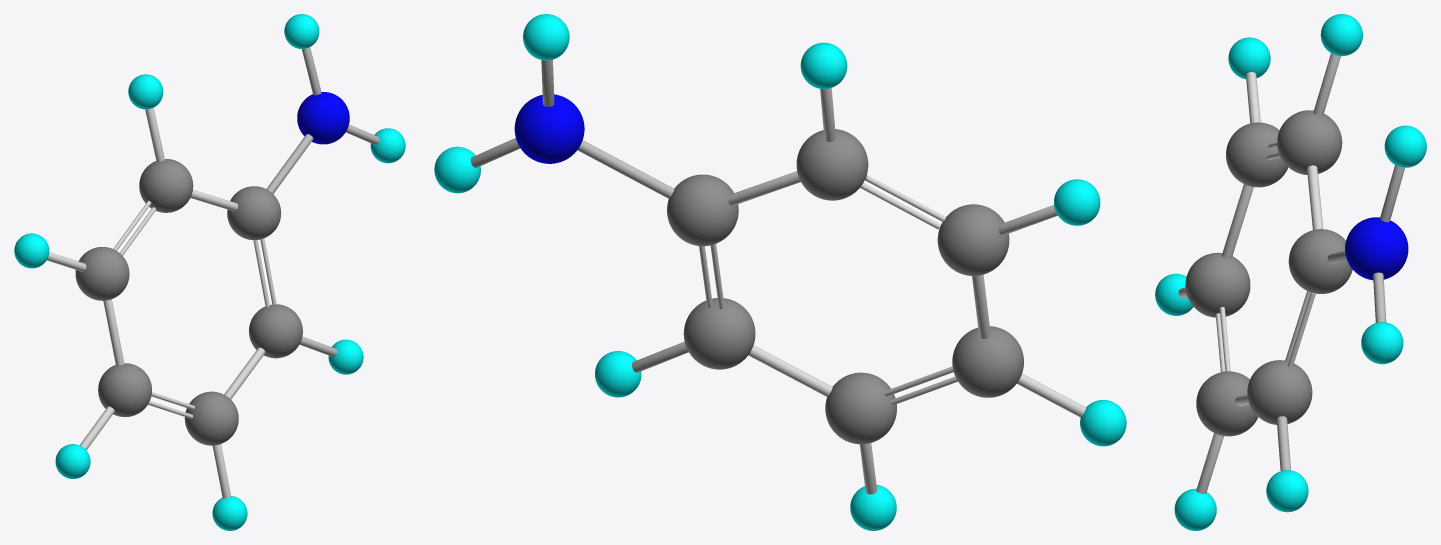
The model's file is aniline.glb.
3 views of the same model, side by side, from view 1: azimuth 30°, elevation 25°; view 2: azimuth 150°, elevation 25°; view 3: azimuth 270°, elevation 25° (orthographic). The views are drawn at different scales.
Visible parts, largest first — view 1: CMAtom_1, CMAtom_4, CMAtom_5, CMAtom_3, CMAtom_0, CMAtom_2, CMAtom_11, CMAtom_6, CMAtom_8, CMAtom_7, CMAtom_12, CMAtom_9 (+7 smaller); view 2: CMAtom_5, CMAtom_0, CMAtom_1, CMAtom_2, CMAtom_4, CMAtom_3, CMAtom_11, CMAtom_8, CMAtom_12, CMAtom_6, CMAtom_7, CMAtom_10 (+6 smaller); view 3: CMAtom_3, CMAtom_1, CMAtom_4, CMAtom_11, CMAtom_2, CMAtom_0, CMAtom_5, CMAtom_12, CMAtom_10, CMAtom_8, CMAtom_13, CMAtom_9 (+13 smaller).
Part boxes in pixels (<box>): CMAtom_1: <box>249,304,302,358</box>; CMAtom_4: <box>139,159,193,212</box>; CMAtom_5: <box>184,391,238,445</box>; CMAtom_3: <box>98,363,151,416</box>; CMAtom_0: <box>75,247,129,300</box>; CMAtom_2: <box>227,186,281,240</box>; CMAtom_11: <box>297,92,349,144</box>; CMAtom_6: <box>14,233,49,268</box>; CMAtom_8: <box>128,74,163,109</box>; CMAtom_7: <box>55,444,90,478</box>; CMAtom_12: <box>284,14,319,48</box>; CMAtom_9: <box>212,496,247,530</box>; CMAtom_5: <box>825,372,896,444</box>; CMAtom_0: <box>937,204,1009,275</box>; CMAtom_1: <box>683,298,755,369</box>; CMAtom_2: <box>667,174,738,246</box>; CMAtom_4: <box>796,129,868,200</box>; CMAtom_3: <box>952,326,1023,397</box>; CMAtom_11: <box>514,94,584,163</box>; CMAtom_8: <box>800,42,847,89</box>; CMAtom_12: <box>523,14,569,60</box>; CMAtom_6: <box>1054,179,1100,225</box>; CMAtom_7: <box>1080,400,1126,446</box>; CMAtom_10: <box>595,351,641,397</box>; CMAtom_3: <box>1185,252,1250,317</box>; CMAtom_1: <box>1247,360,1312,424</box>; CMAtom_4: <box>1277,110,1342,174</box>; CMAtom_11: <box>1345,217,1408,280</box>; CMAtom_2: <box>1288,229,1352,293</box>; CMAtom_0: <box>1226,122,1288,187</box>; CMAtom_5: <box>1196,371,1258,436</box>; CMAtom_12: <box>1384,125,1426,167</box>; CMAtom_10: <box>1266,470,1308,512</box>; CMAtom_8: <box>1320,14,1362,56</box>; CMAtom_13: <box>1361,322,1403,364</box>; CMAtom_9: <box>1174,488,1216,530</box>.
Bounding box in the file's own units: 5.82 × 5.22 × 2.57.
